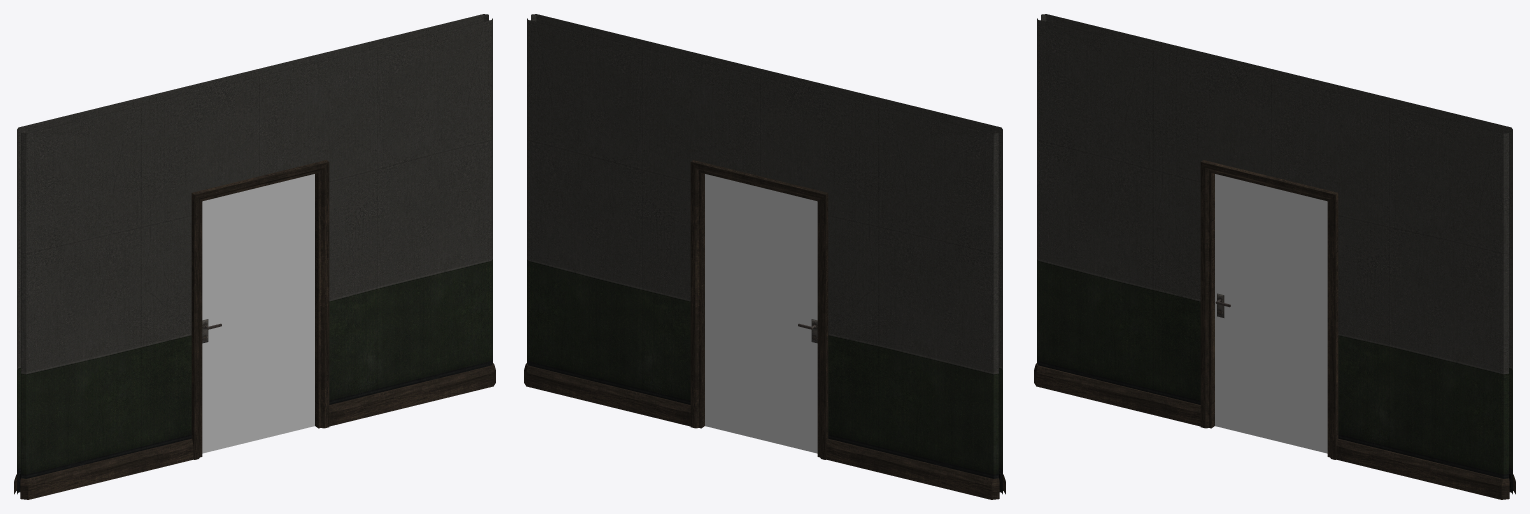
The model's file is doorway_door_mp_1.obj.
3 views of the same model, side by side, from view 1: azimuth 30°, elevation 25°; view 2: azimuth 150°, elevation 25°; view 3: azimuth 330°, elevation 25° (orthographic).
Parts seen in each view (by area): view 1: doorway_door_mp_1, door_mp_1; view 2: doorway_door_mp_1, door_mp_1; view 3: doorway_door_mp_1, door_mp_1.
Boxes of the visible parts, left/top/right/bottom form: doorway_door_mp_1: left=14, top=14, right=495, bottom=499; door_mp_1: left=202, top=174, right=314, bottom=453; doorway_door_mp_1: left=524, top=14, right=1005, bottom=499; door_mp_1: left=705, top=174, right=817, bottom=453; doorway_door_mp_1: left=1034, top=14, right=1515, bottom=499; door_mp_1: left=1215, top=174, right=1327, bottom=453.
Bounding box in the file's own units: 4.09 × 3 × 0.2.
